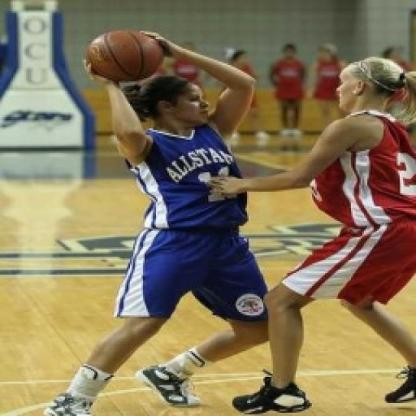basketball: (87, 28, 165, 82)
